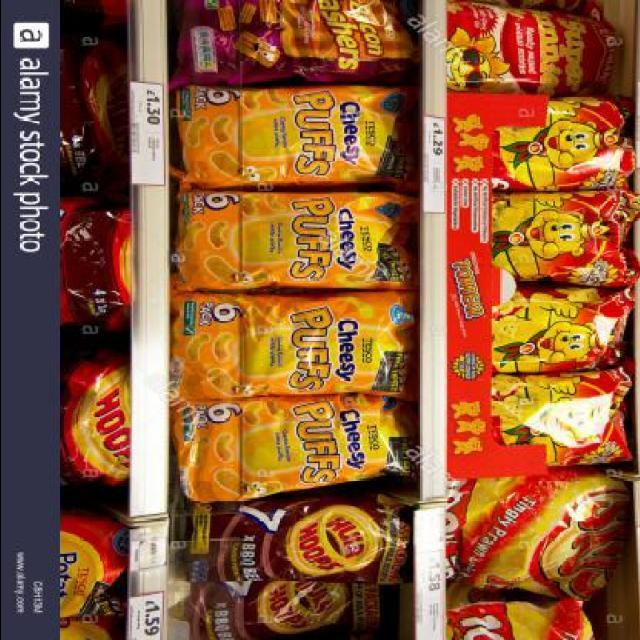Chips: (161, 392, 410, 502), (165, 290, 407, 398), (174, 84, 412, 190), (172, 188, 416, 286), (438, 472, 626, 594), (183, 494, 411, 583), (474, 190, 638, 288), (446, 5, 622, 93), (492, 366, 636, 465), (486, 94, 628, 192), (481, 284, 633, 374)
